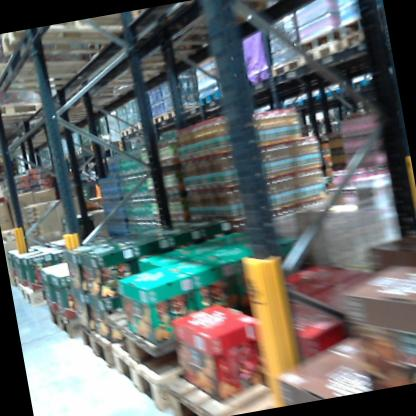pallet: (168, 333, 381, 416), (101, 309, 232, 416), (0, 6, 175, 75), (0, 46, 91, 109), (71, 312, 115, 371), (334, 21, 388, 53), (0, 94, 52, 126), (294, 40, 345, 67), (266, 51, 309, 81), (48, 305, 80, 344), (187, 85, 228, 115), (19, 278, 51, 316), (160, 96, 201, 120), (148, 111, 169, 127), (124, 120, 140, 134), (117, 128, 131, 141), (139, 119, 151, 131)
